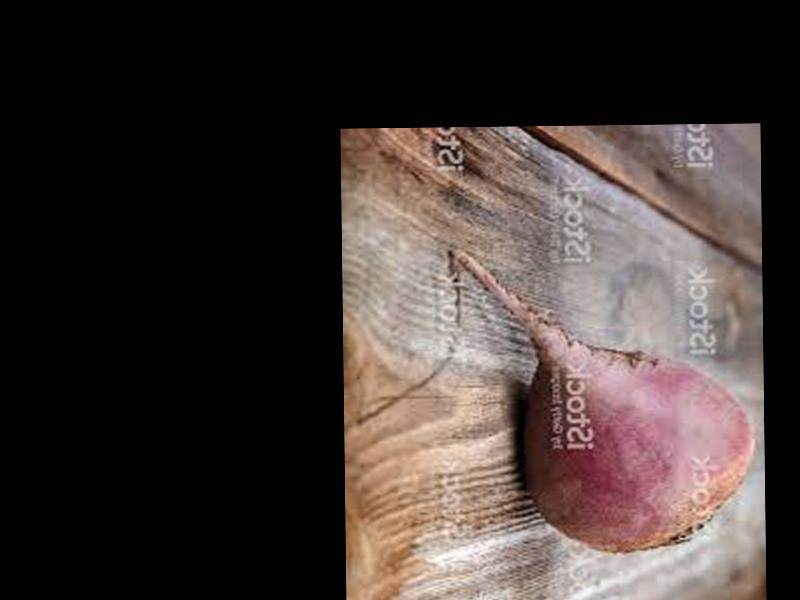Beet: (451, 243, 756, 554)
